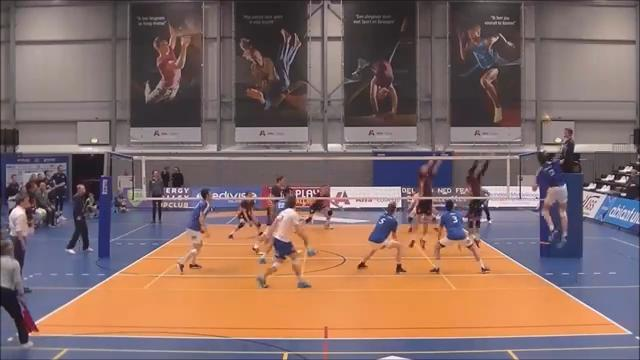attacco: (527, 139, 568, 247)
muro: (405, 142, 448, 249), (459, 145, 498, 245)
